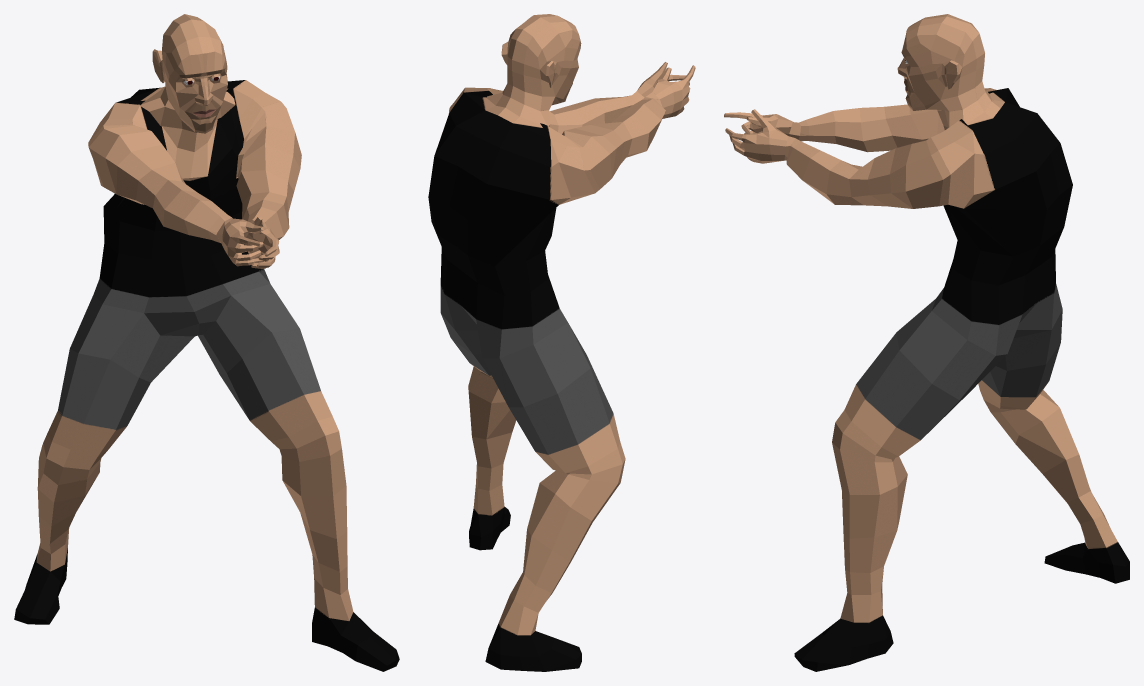
File: PlayerShoot(22).obj
3 views of the same model, side by side, from view 1: azimuth 30°, elevation 25°; view 2: azimuth 150°, elevation 25°; view 3: azimuth 270°, elevation 25° (orthographic). The views are drawn at different scales.
Visible parts, largest first — view 1: Plane002; view 2: Plane002; view 3: Plane002.
Part boxes in pixels (x1,y1,x2,y2): Plane002: (14, 14, 399, 671); Plane002: (428, 14, 695, 671); Plane002: (724, 14, 1129, 671).
Size of the model in its own units: 716 by 1664 by 1036.
